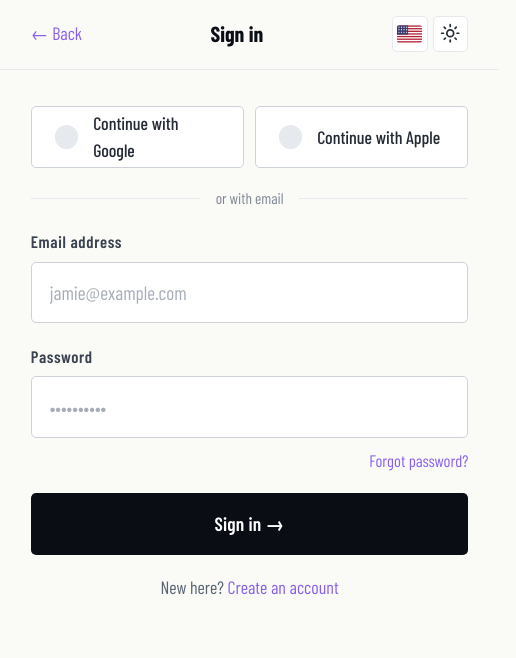
SignIn › rejects empty submit with an error message
Click the button "Sign in →".
click(250, 524)  # box [31, 493, 468, 555]
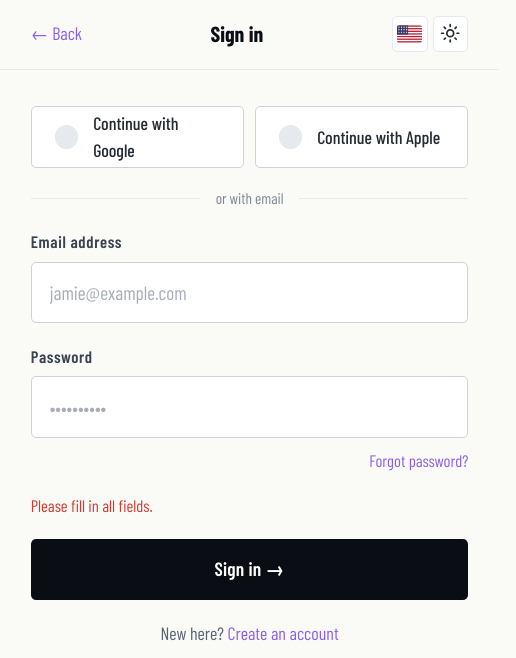
Result: the text "Please fill in all fields." is shown at [31, 495, 153, 515]
